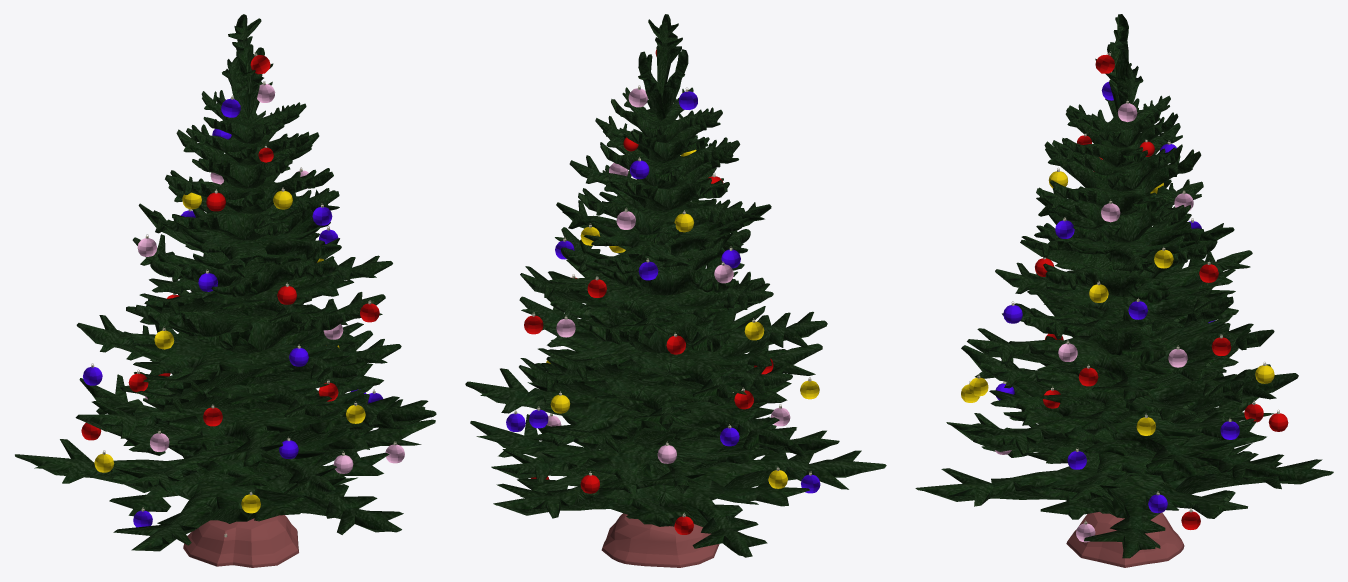
The model's file is Christmas_tree.fbx.
The picture shows the model from 3 angles, left to right: view 1: azimuth 30°, elevation 25°; view 2: azimuth 150°, elevation 25°; view 3: azimuth 270°, elevation 25°; orthographic projection.
Visible parts, largest first — view 1: christmas_tree; view 2: christmas_tree; view 3: christmas_tree.
Boxes of the visible parts, left/top/right/bottom form: christmas_tree: left=15, top=14, right=436, bottom=567; christmas_tree: left=465, top=14, right=886, bottom=567; christmas_tree: left=915, top=14, right=1333, bottom=567.
Bounding box in the file's own units: 119 × 167 × 120.
Materials: 7 (1 with a texture image).
